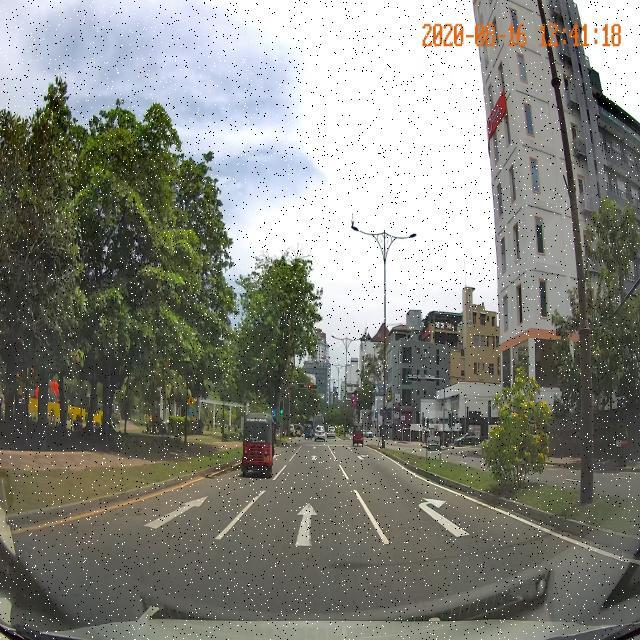forward: (205, 496, 393, 546)
